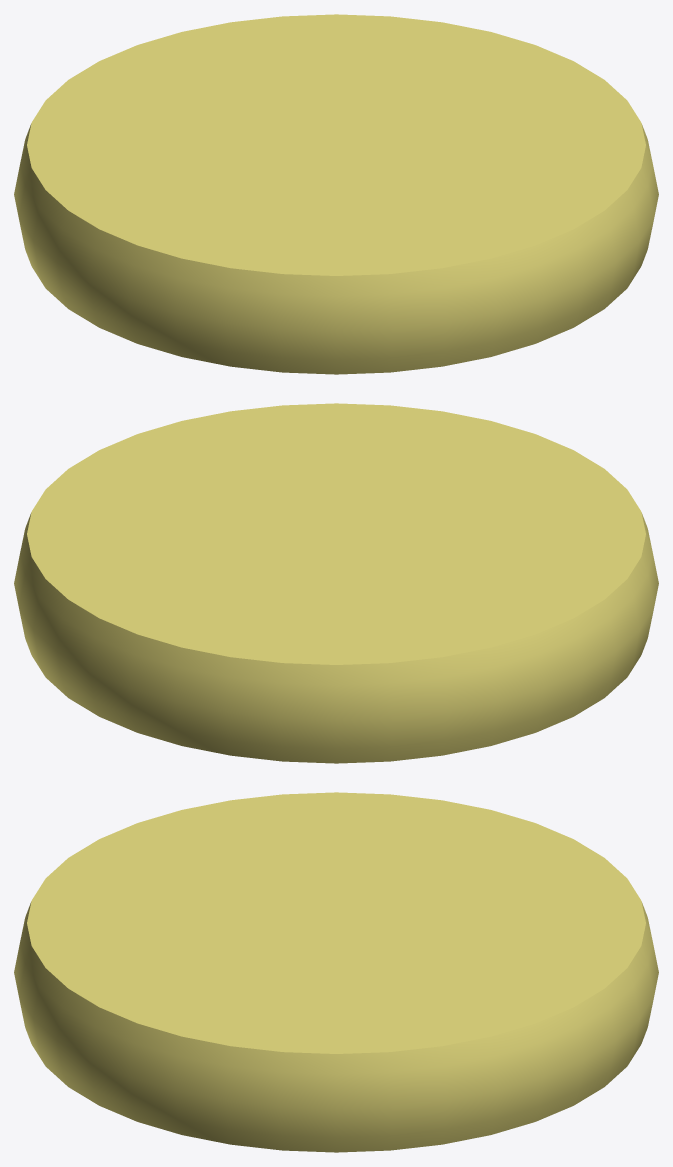
Rendered from trampoline.glb.
3 renders of one model, top to bottom at view 1: azimuth 30°, elevation 25°; view 2: azimuth 150°, elevation 25°; view 3: azimuth 270°, elevation 25°, orthographic.
Visible parts, largest first — view 1: Cylinder; view 2: Cylinder; view 3: Cylinder.
Boxes of the visible parts, left/top/right/bottom form: Cylinder: left=14, top=14, right=658, bottom=374; Cylinder: left=14, top=403, right=658, bottom=763; Cylinder: left=14, top=792, right=658, bottom=1152.
Bounding box in the file's own units: 1.91 × 0.3223 × 1.91.
